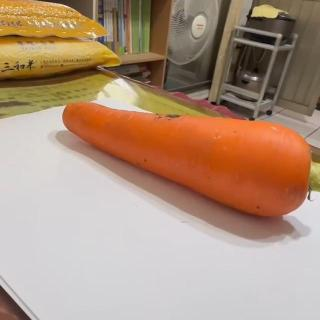carrot: (61, 99, 315, 223)
